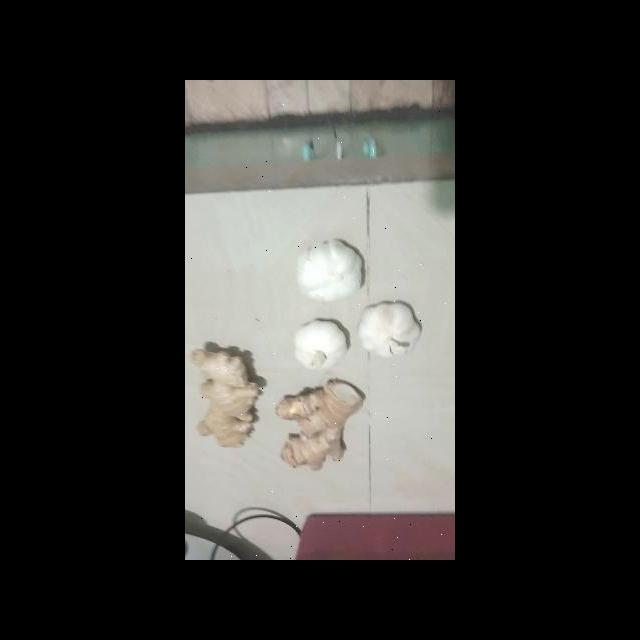garlic: (351, 298, 421, 364), (295, 242, 366, 307), (292, 314, 347, 371)
ginger: (269, 374, 364, 470), (189, 346, 260, 451)
